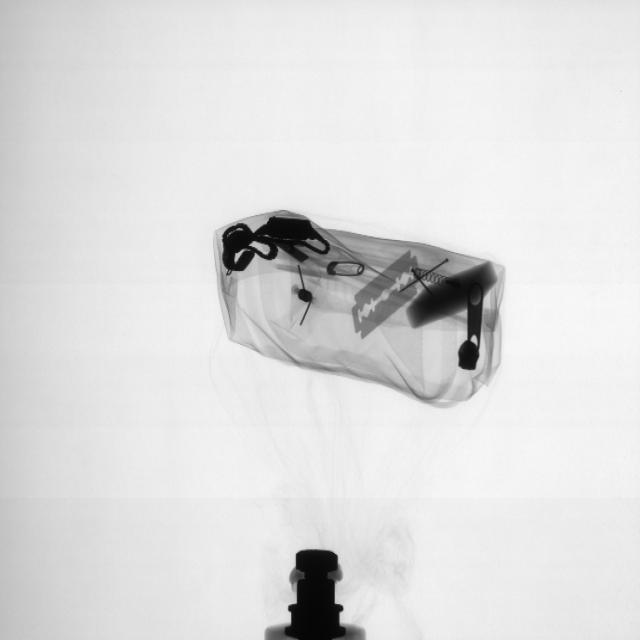BLADE: (352, 265, 418, 344)
